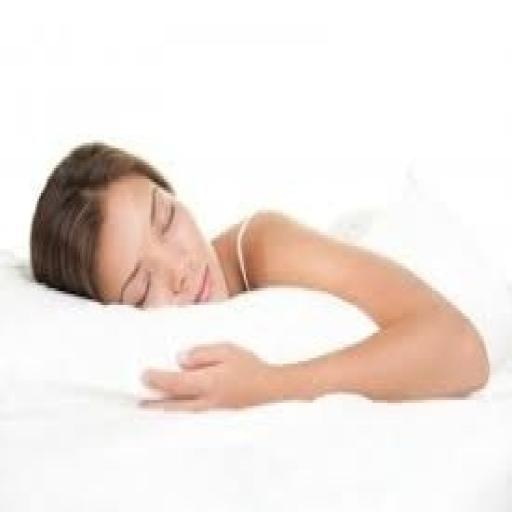sleeping: (26, 137, 492, 414)
